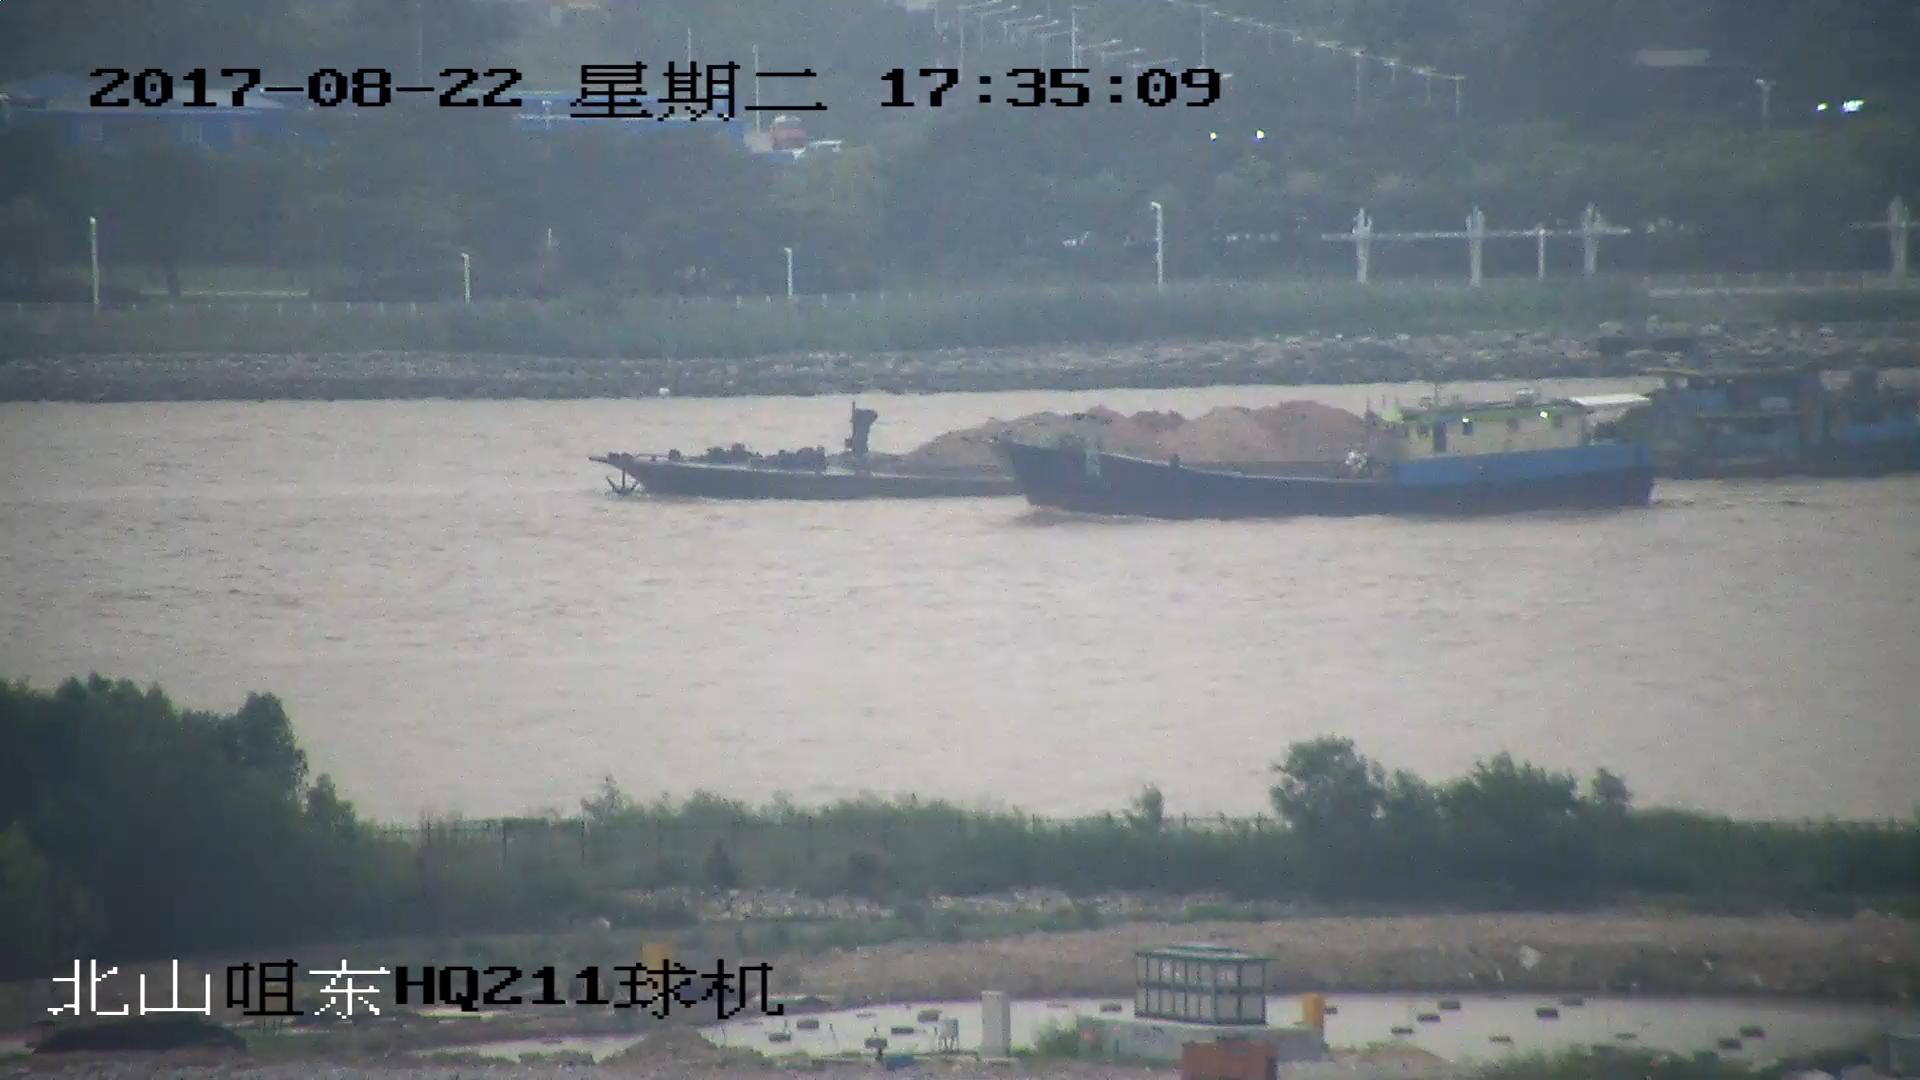fishing boat: (1001, 378, 1653, 514)
ore carrier: (595, 359, 1920, 500)
